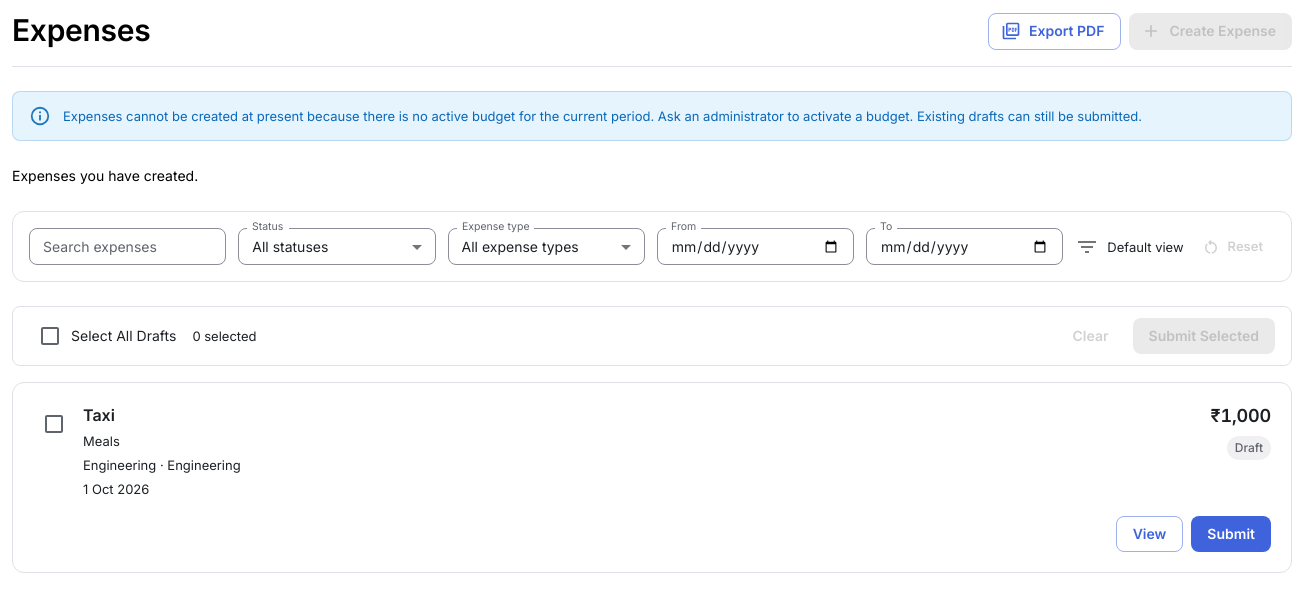
Test case: ExpensesPage submitting several drafts › clears the selection when the filters change
This screenshot has width=1304, height=590.
Click the checkbox named "Select Taxi" at (54, 424), box x1=42 y1=412 x2=66 y2=436
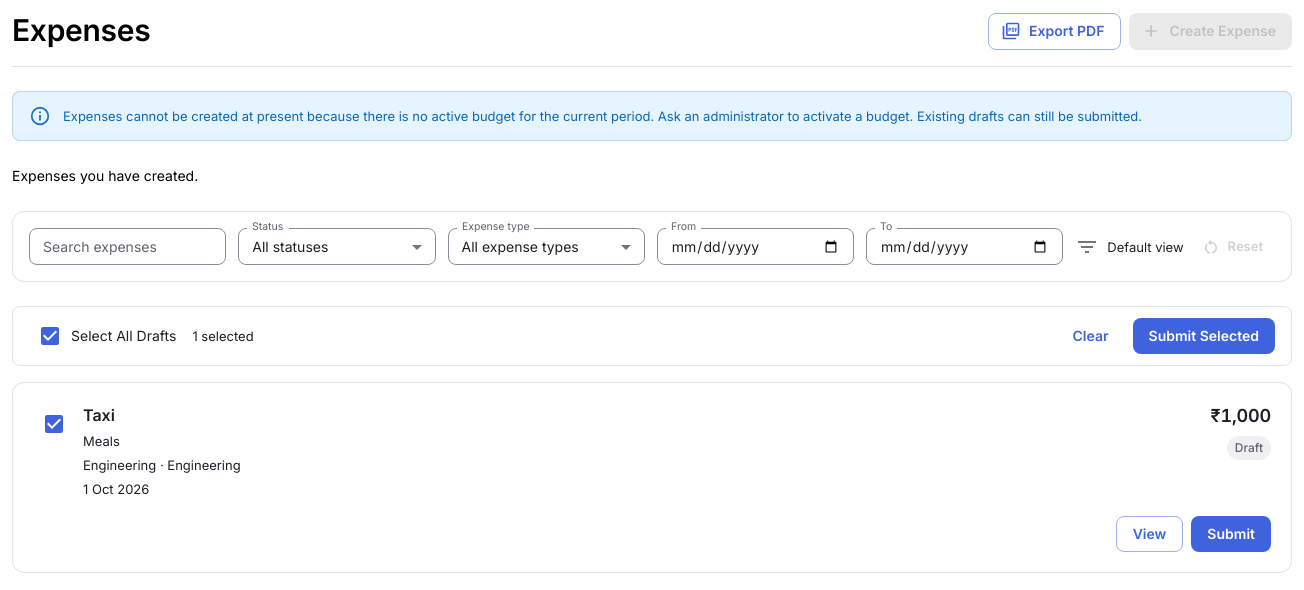
Expected: the text "1 selected" is shown, x1=192 y1=326 x2=254 y2=346
Type "Taxi" into the field labelled "Search expenses" at (128, 247), box x1=29 y1=228 x2=226 y2=265
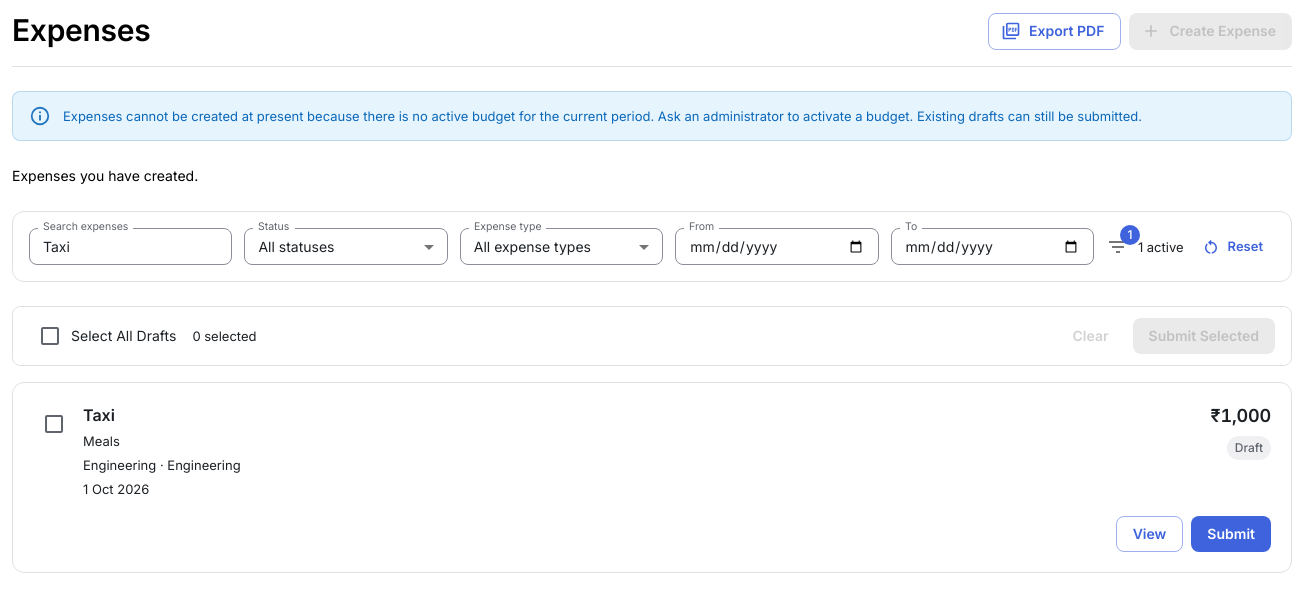
Expected: the checkbox named "Select Taxi" is not checked, x1=42 y1=412 x2=66 y2=436
Expected: the text "0 selected" is shown, x1=192 y1=326 x2=256 y2=346
